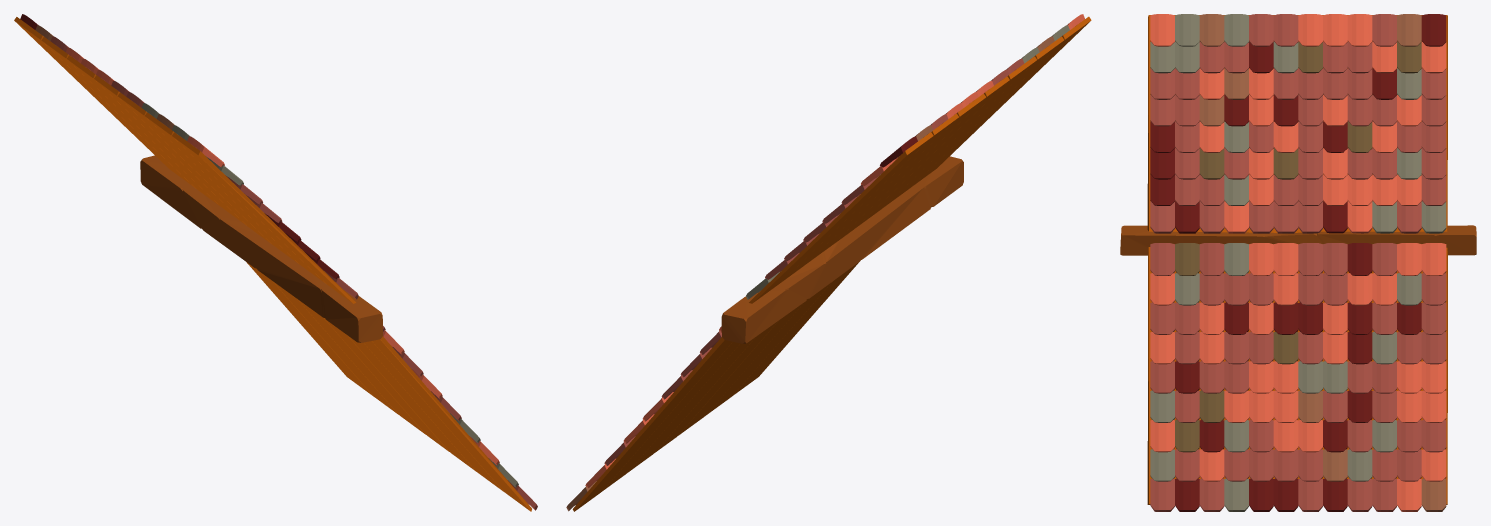
Rendered from DoubleHeightRoof.fbx.
3 views of the same model, side by side, from view 1: azimuth 30°, elevation 25°; view 2: azimuth 150°, elevation 25°; view 3: azimuth 270°, elevation 25° (orthographic). The views are drawn at different scales.
Visible parts, largest first — view 1: DoubleHeightRoof_LOD0; view 2: DoubleHeightRoof_LOD0; view 3: DoubleHeightRoof_LOD0.
Part boxes in pixels (x1,y1,x2,y2): DoubleHeightRoof_LOD0: [14, 14, 537, 511]; DoubleHeightRoof_LOD0: [566, 14, 1091, 511]; DoubleHeightRoof_LOD0: [1120, 14, 1476, 511].
Size of what is drawn, in the model's own units: 1965 by 2442 by 2162.
